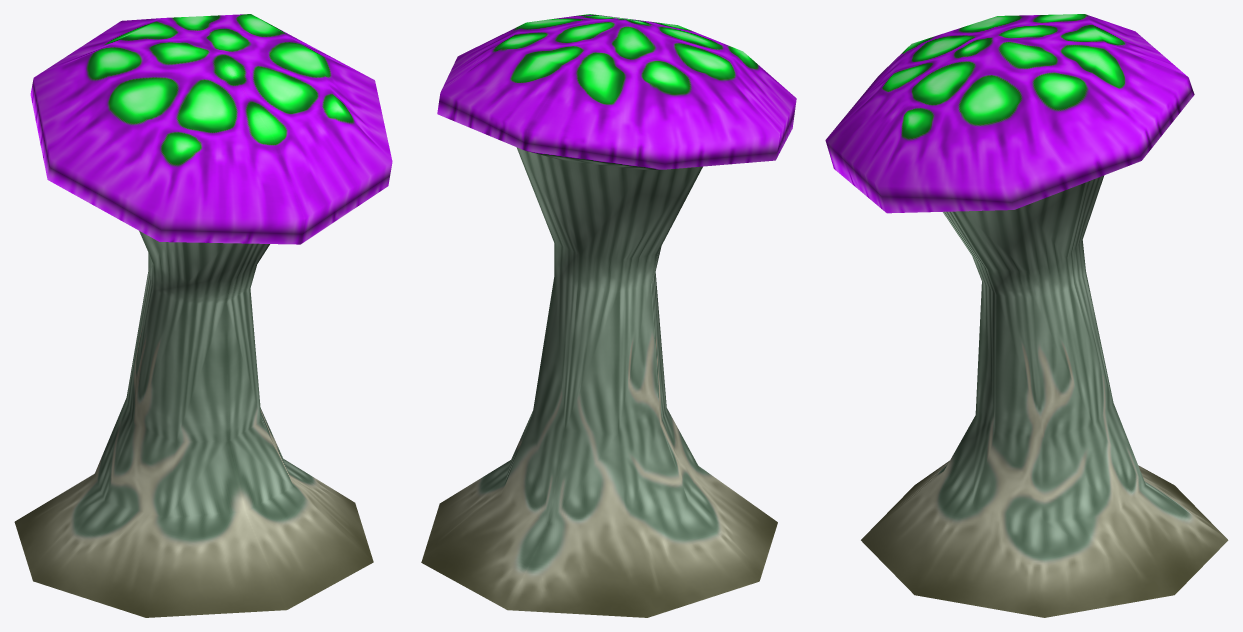
Rendered from Mushroom_001c.fbx.
3 views of the same model, side by side, from view 1: azimuth 30°, elevation 25°; view 2: azimuth 150°, elevation 25°; view 3: azimuth 270°, elevation 25° (orthographic).
Parts seen in each view (by area): view 1: Mesh; view 2: Mesh; view 3: Mesh.
Part boxes in pixels (bbox=[...]): Mesh: bbox=[14, 14, 392, 617]; Mesh: bbox=[421, 14, 796, 617]; Mesh: bbox=[825, 14, 1228, 617].
Size of the model in its own units: 52.92 by 79.15 by 57.68.
